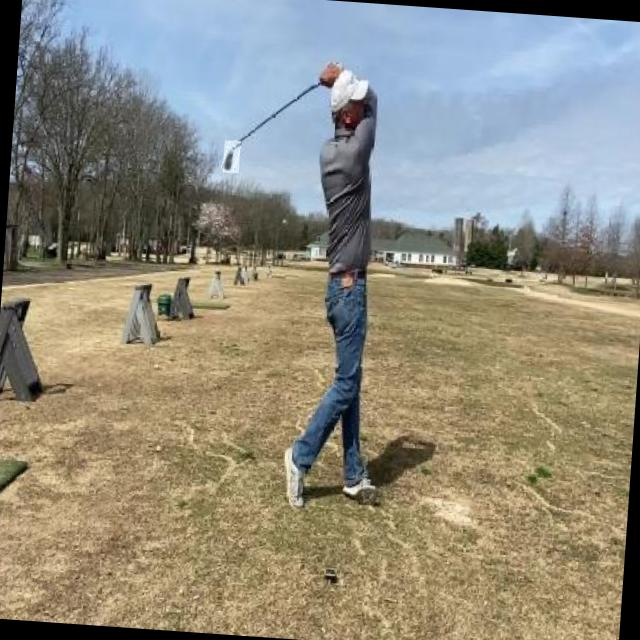club head: (222, 140, 240, 173)
